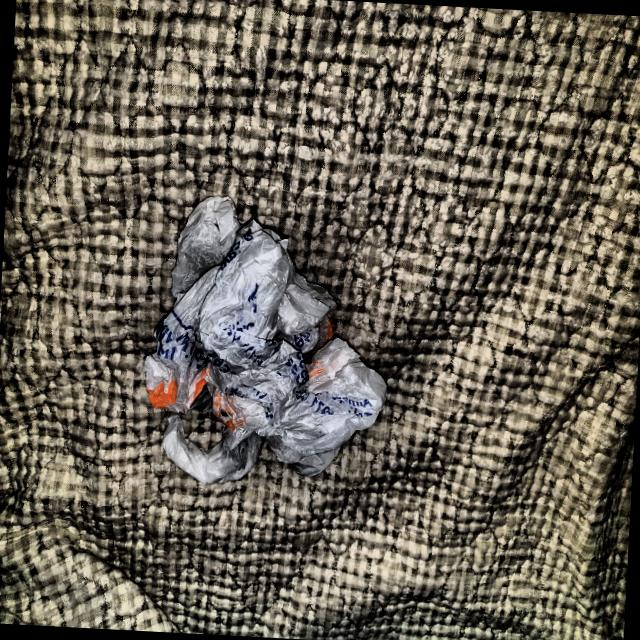plastic bag: (122, 178, 402, 500)
